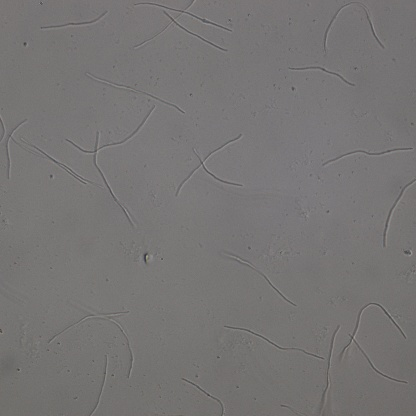Sensitive: (341, 301, 411, 385), (130, 1, 232, 55), (91, 130, 140, 228), (64, 107, 156, 156), (175, 133, 242, 196), (220, 251, 295, 306), (23, 139, 93, 190), (224, 326, 322, 359), (323, 1, 385, 53), (381, 180, 416, 247), (323, 143, 412, 166), (318, 325, 339, 412), (181, 377, 226, 416), (289, 64, 356, 87), (40, 10, 108, 30), (3, 118, 26, 177), (88, 355, 109, 416)
